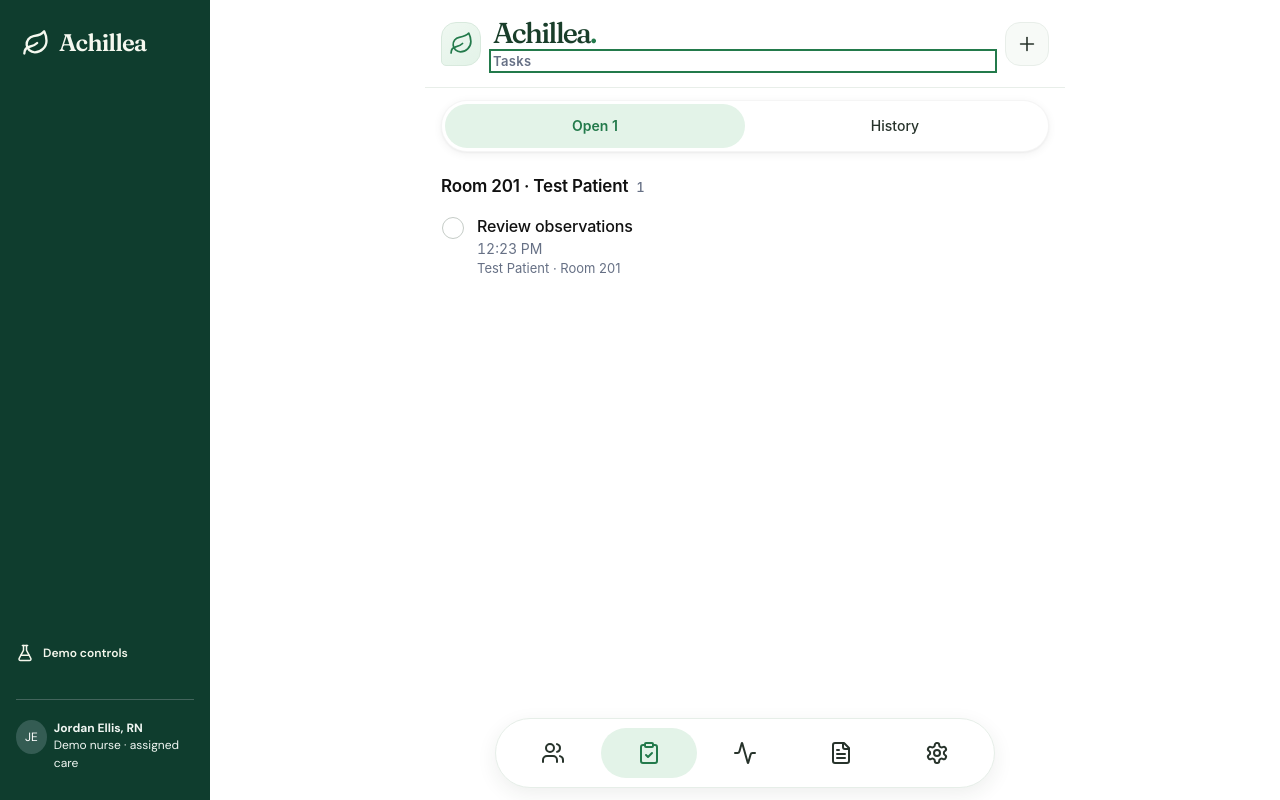
refreshes task state and Activity after an acknowledged API response
Later steps or results of the test are not shown.
Step 1. Click the button with aria-label "Review observations," → [555, 226], box [477, 204, 1049, 278]
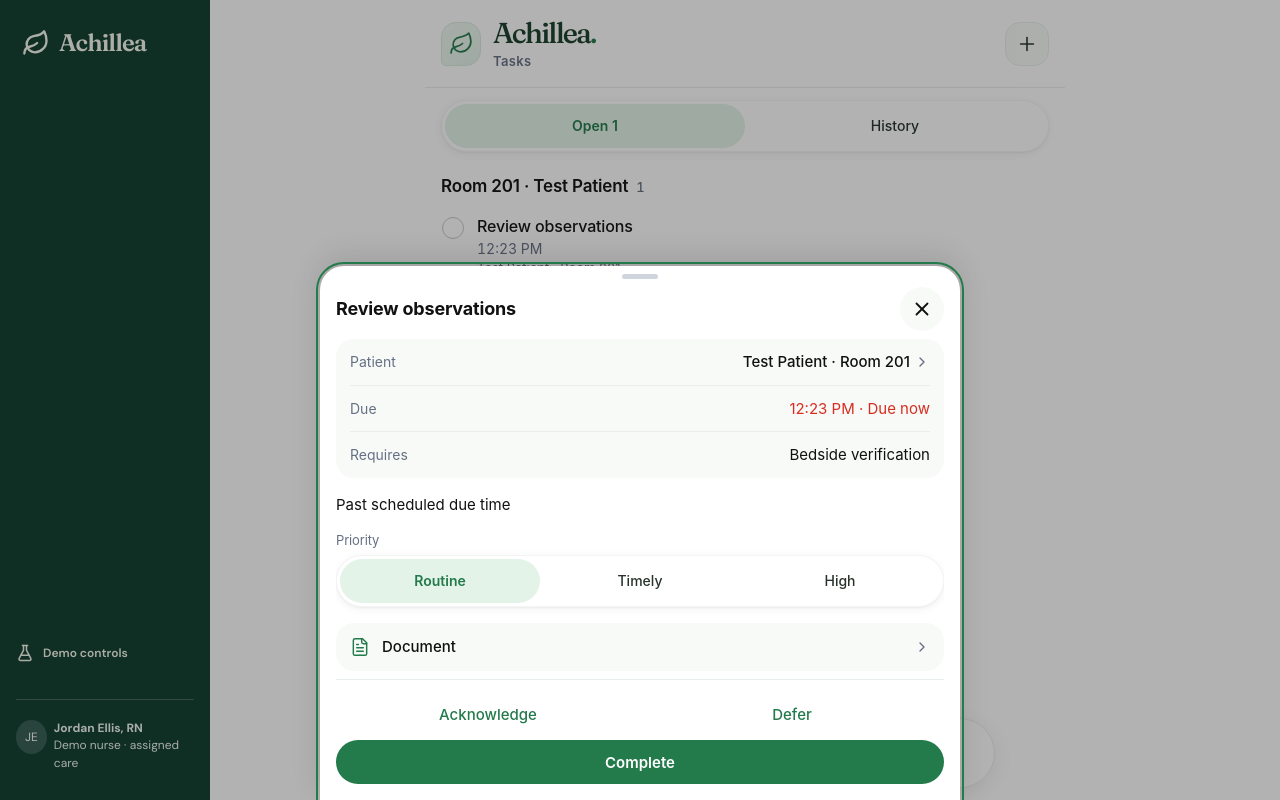
Step 2. Click the button "Acknowledge" → [488, 714], box [336, 692, 640, 736]
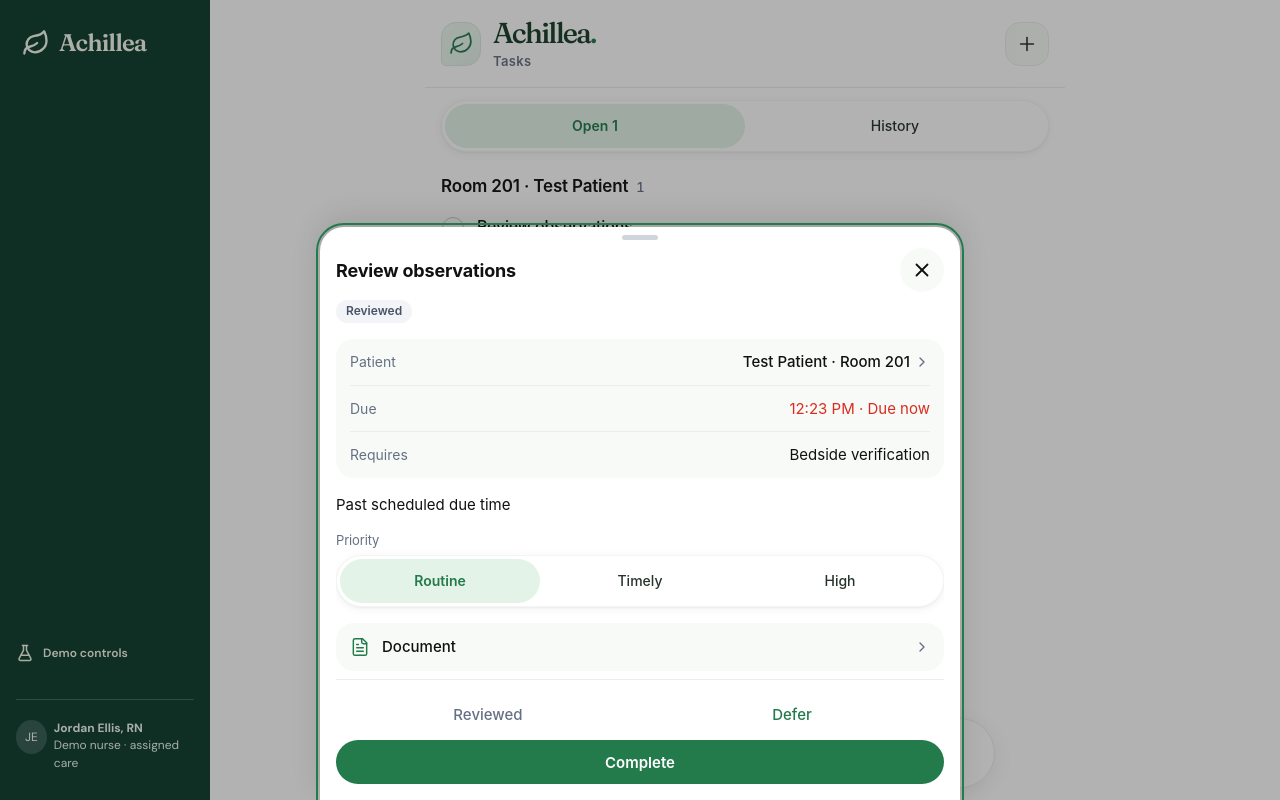
Check: the button "Reviewed" is disabled, box [336, 692, 640, 736]
